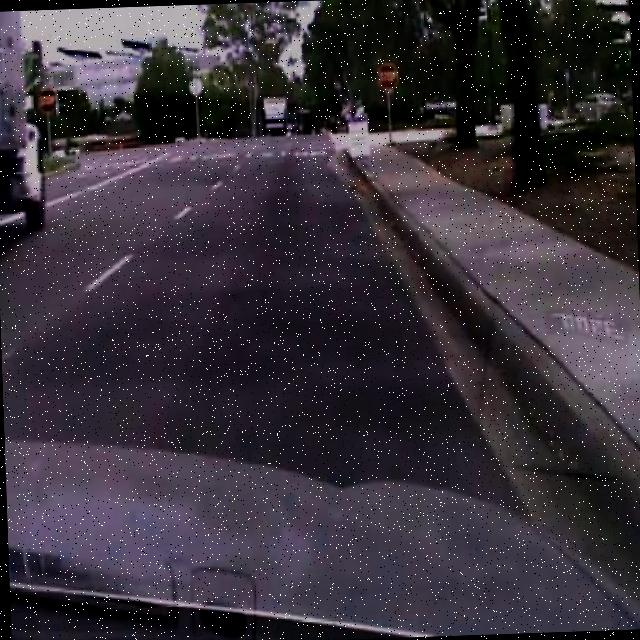Stop: (374, 58, 401, 96)
